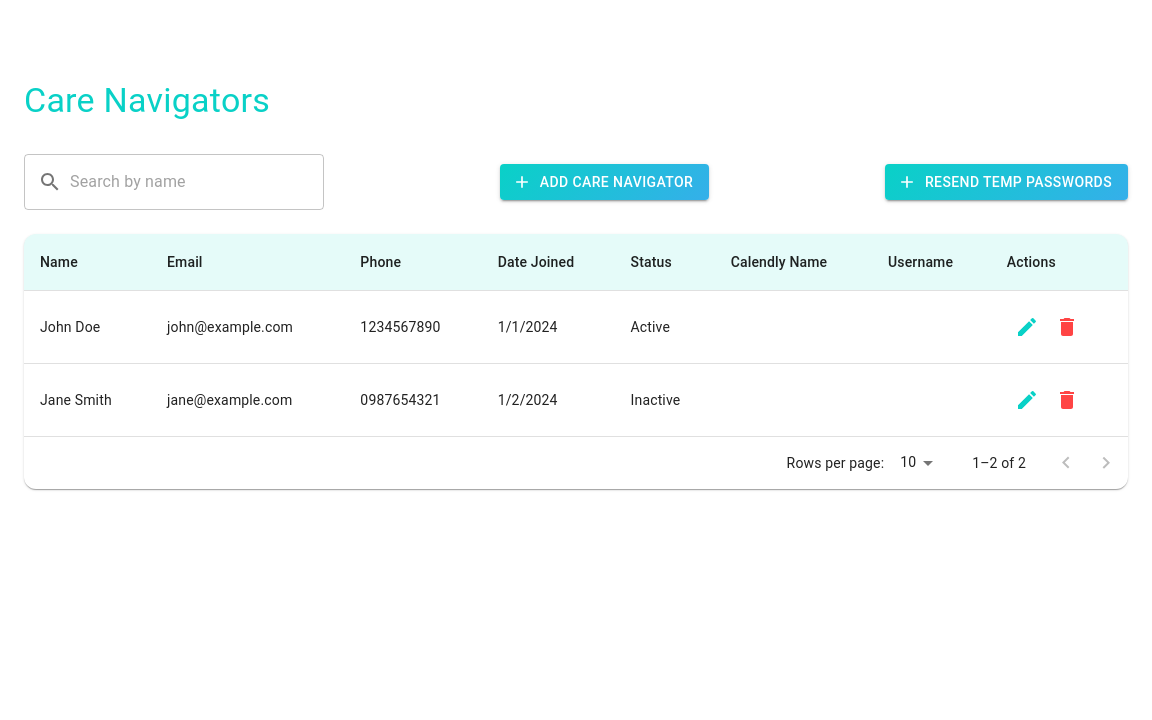
Scenario: CareNavigators Component › Delete Care Navigator › closes delete dialog when cancel button is clicked
Click the delete button
Click the button with test id "delete-button-1". click: {"x": 1067, "y": 327}
box: [1047, 307, 1087, 347]
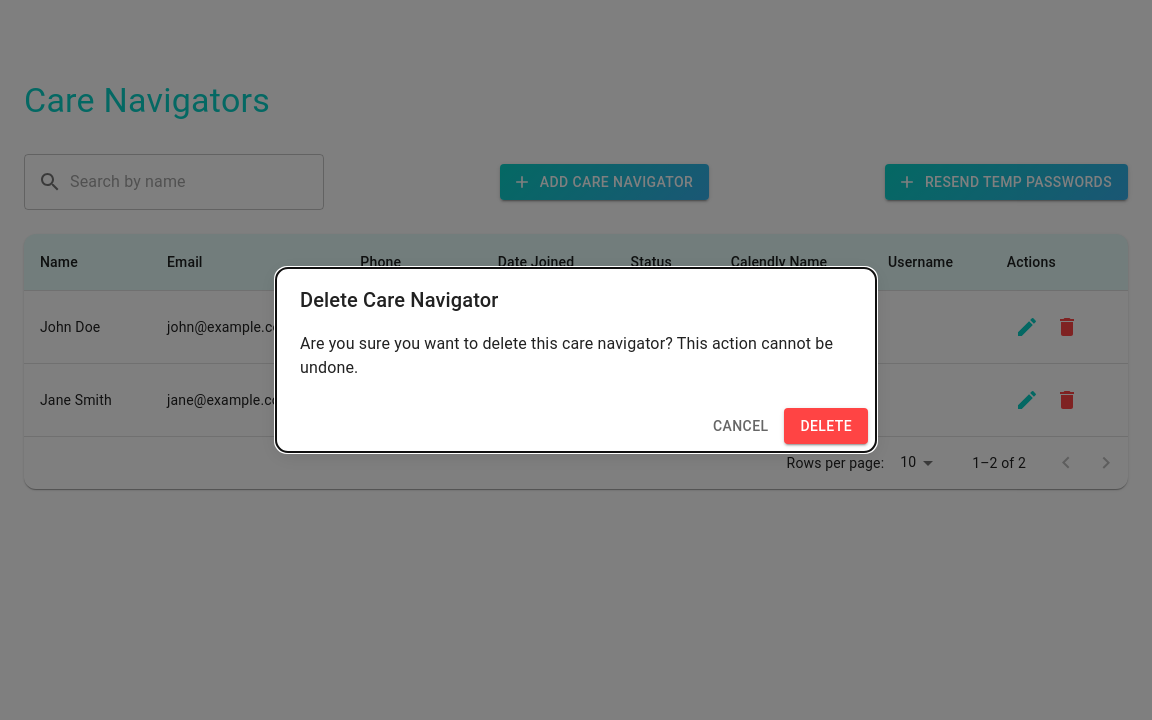
Expected: the element with test id "delete-dialog" is shown
Click cancel button
Click the button with test id "cancel-delete-button". click: {"x": 741, "y": 426}
box: [705, 408, 776, 444]
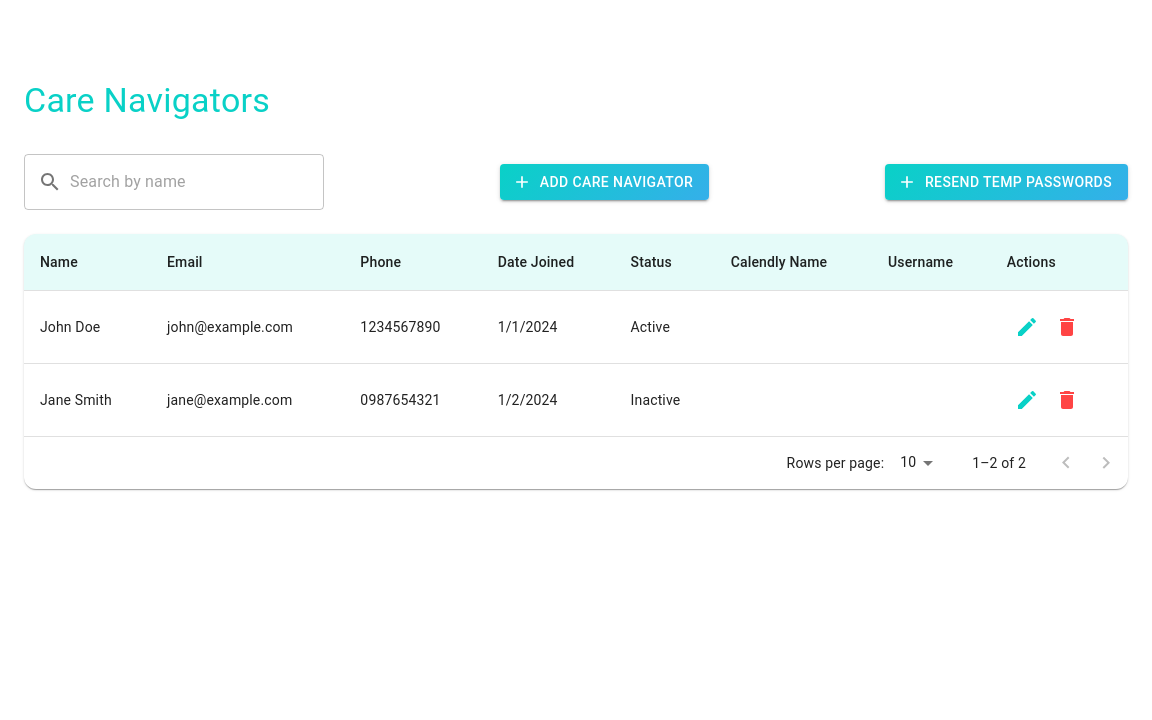
Expected: the element with test id "delete-dialog" is gone
